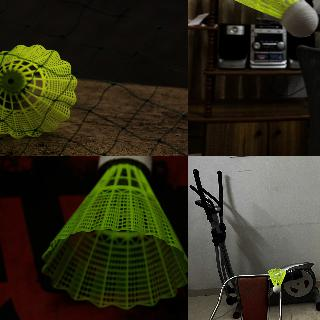shuttlecock: (41, 156, 187, 310), (0, 44, 77, 138), (219, 0, 319, 38), (268, 268, 286, 292)
